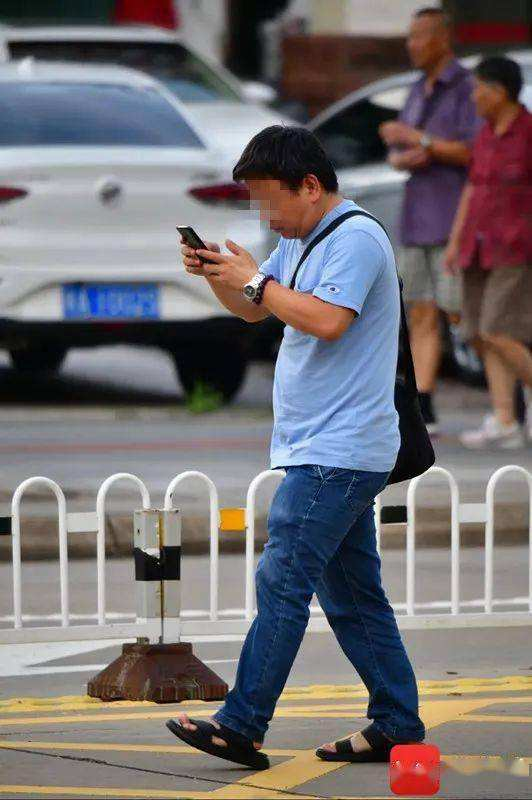reading: (172, 219, 256, 291)
